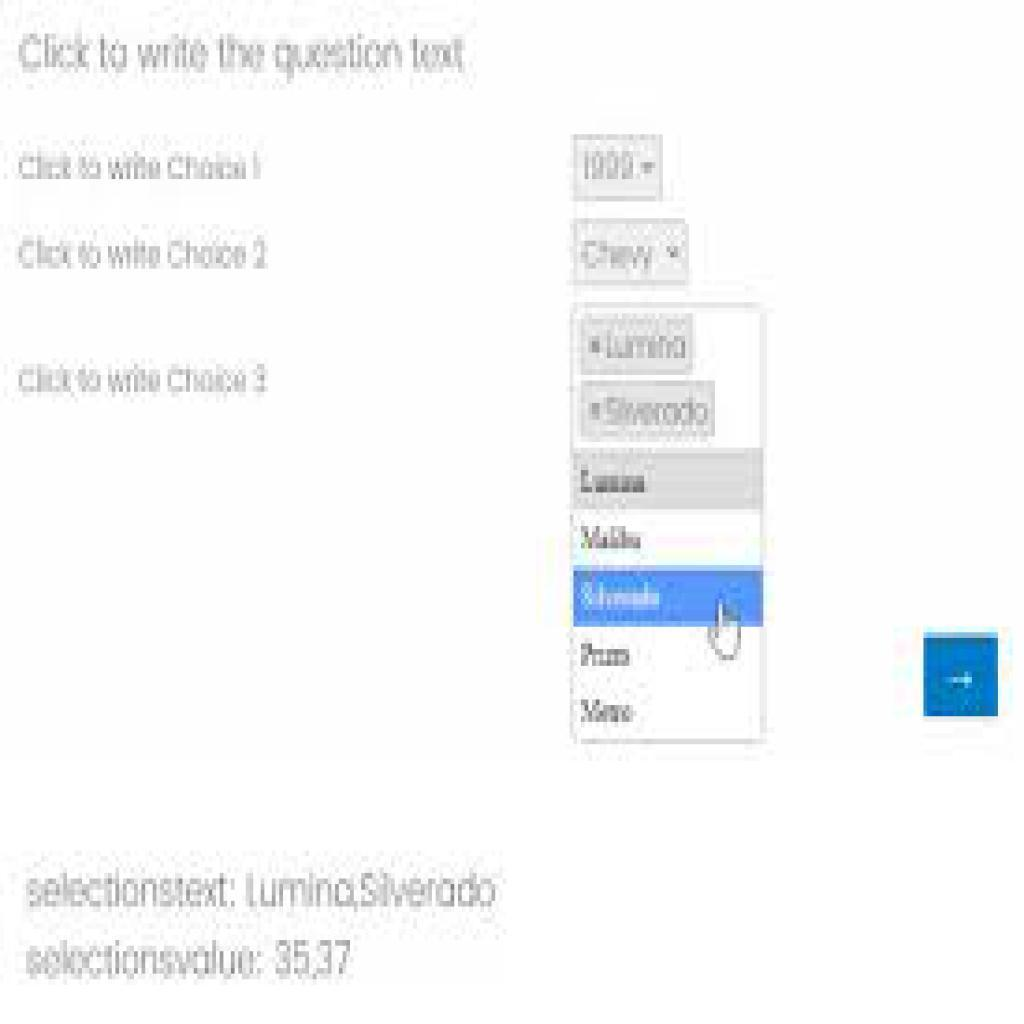button: (921, 638, 1000, 717)
dropdown: (570, 225, 691, 288), (574, 135, 661, 199)
